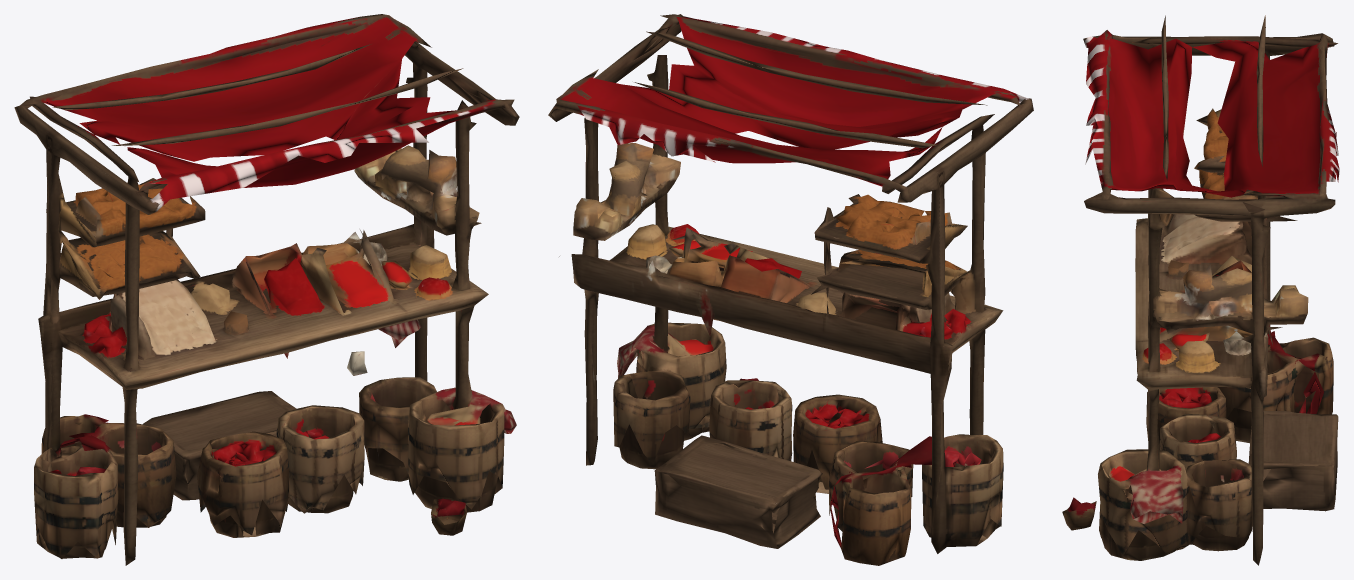
The model's file is stall.glb.
The picture shows the model from 3 angles, left to right: view 1: azimuth 30°, elevation 25°; view 2: azimuth 150°, elevation 25°; view 3: azimuth 270°, elevation 25°; orthographic projection. The views are drawn at different scales.
Visible parts, largest first — view 1: geometry_0; view 2: geometry_0; view 3: geometry_0.
Boxes of the visible parts, box(x1,y1,x2,y2) form: geometry_0: box(14, 14, 519, 565); geometry_0: box(548, 14, 1033, 565); geometry_0: box(1062, 15, 1339, 565).
Bounding box in the file's own units: 0.99 × 0.9346 × 0.6057.
Materials: 1 (1 with a texture image).
